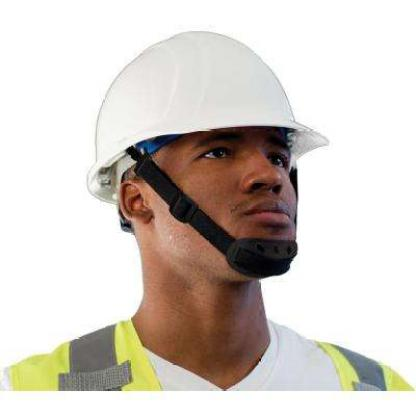helmet: (84, 23, 320, 167)
person: (2, 16, 415, 390)
vest: (17, 319, 415, 391)
